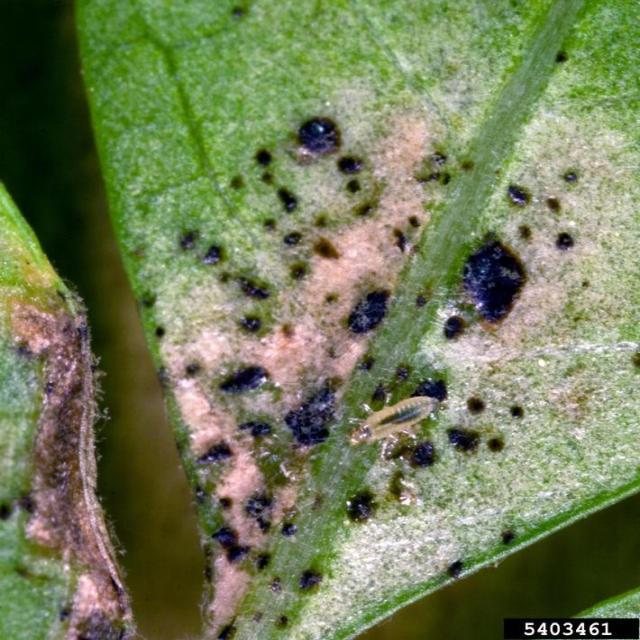Thrips: (97, 74, 605, 619)
